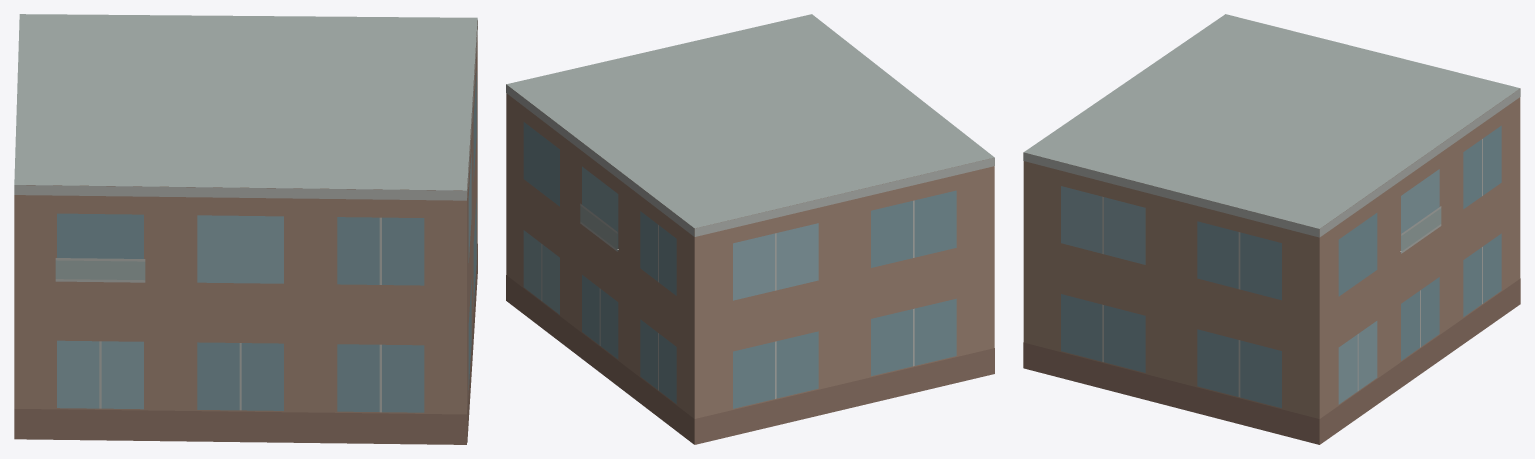
File: survey-upis-32747138.glb
3 views of the same model, side by side, from view 1: azimuth 30°, elevation 25°; view 2: azimuth 150°, elevation 25°; view 3: azimuth 270°, elevation 25° (orthographic). The views are drawn at different scales.
Parts seen in each view (by area): view 1: survey-upis-32747138.tmp; view 2: survey-upis-32747138.tmp; view 3: survey-upis-32747138.tmp.
Boxes of the visible parts, box(x1,y1,x2,y2) form: survey-upis-32747138.tmp: box(14, 14, 477, 444); survey-upis-32747138.tmp: box(506, 14, 994, 444); survey-upis-32747138.tmp: box(1023, 14, 1520, 444).
Size of the model in its own units: 13.03 by 6.1 by 12.73.
